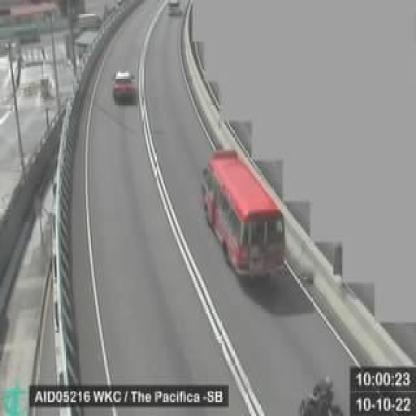Car: (112, 68, 133, 100), (166, 1, 180, 17)
Minibus: (202, 151, 286, 283)
